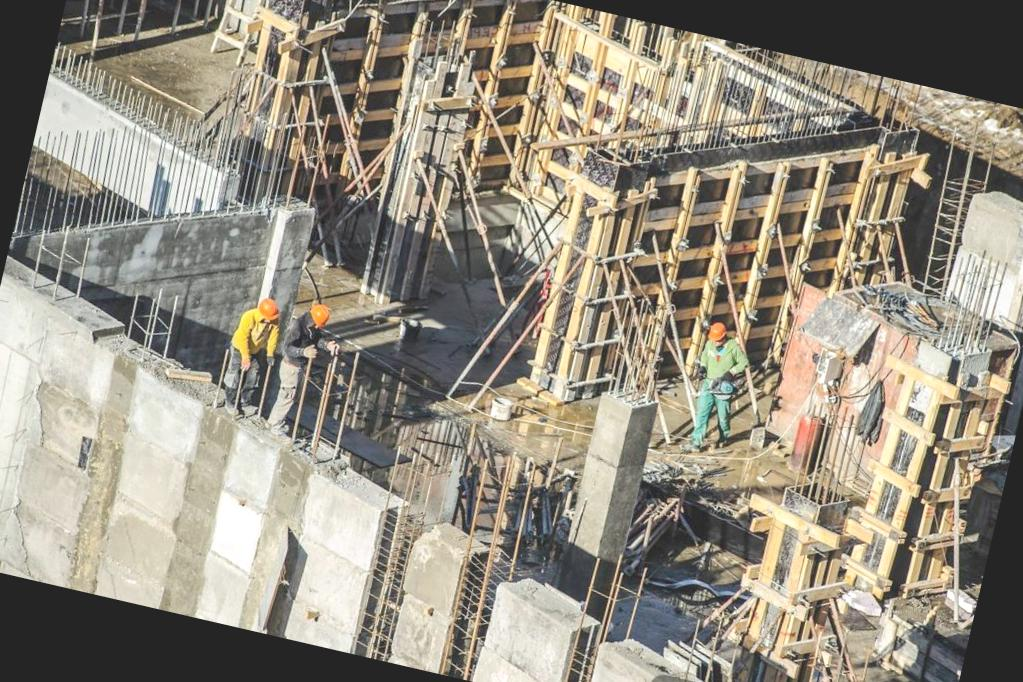helmet: (248, 294, 282, 325), (702, 318, 732, 350), (302, 300, 331, 331)
person: (250, 287, 342, 442), (669, 314, 754, 457), (208, 288, 284, 422)
